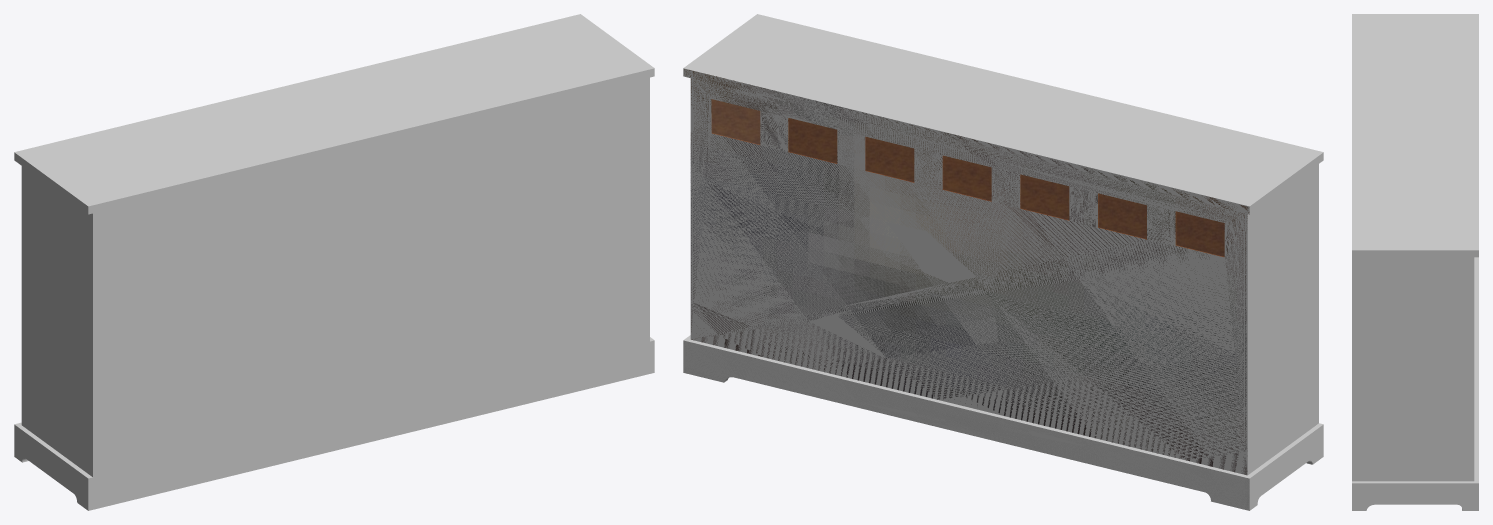
3 renders of one model, left to right at view 1: azimuth 30°, elevation 25°; view 2: azimuth 150°, elevation 25°; view 3: azimuth 270°, elevation 25°, orthographic. The views are drawn at different scales.
Parts seen in each view (by area): view 1: mesh1_mesh1-geometry; view 2: mesh1_mesh1-geometry; view 3: mesh1_mesh1-geometry.
Part boxes in pixels (x1,y1,x2,y2): mesh1_mesh1-geometry: (14, 14, 654, 510); mesh1_mesh1-geometry: (683, 14, 1323, 510); mesh1_mesh1-geometry: (1352, 14, 1478, 510).
Bounding box in the file's own units: 0.872 × 0.4479 × 0.1977.
